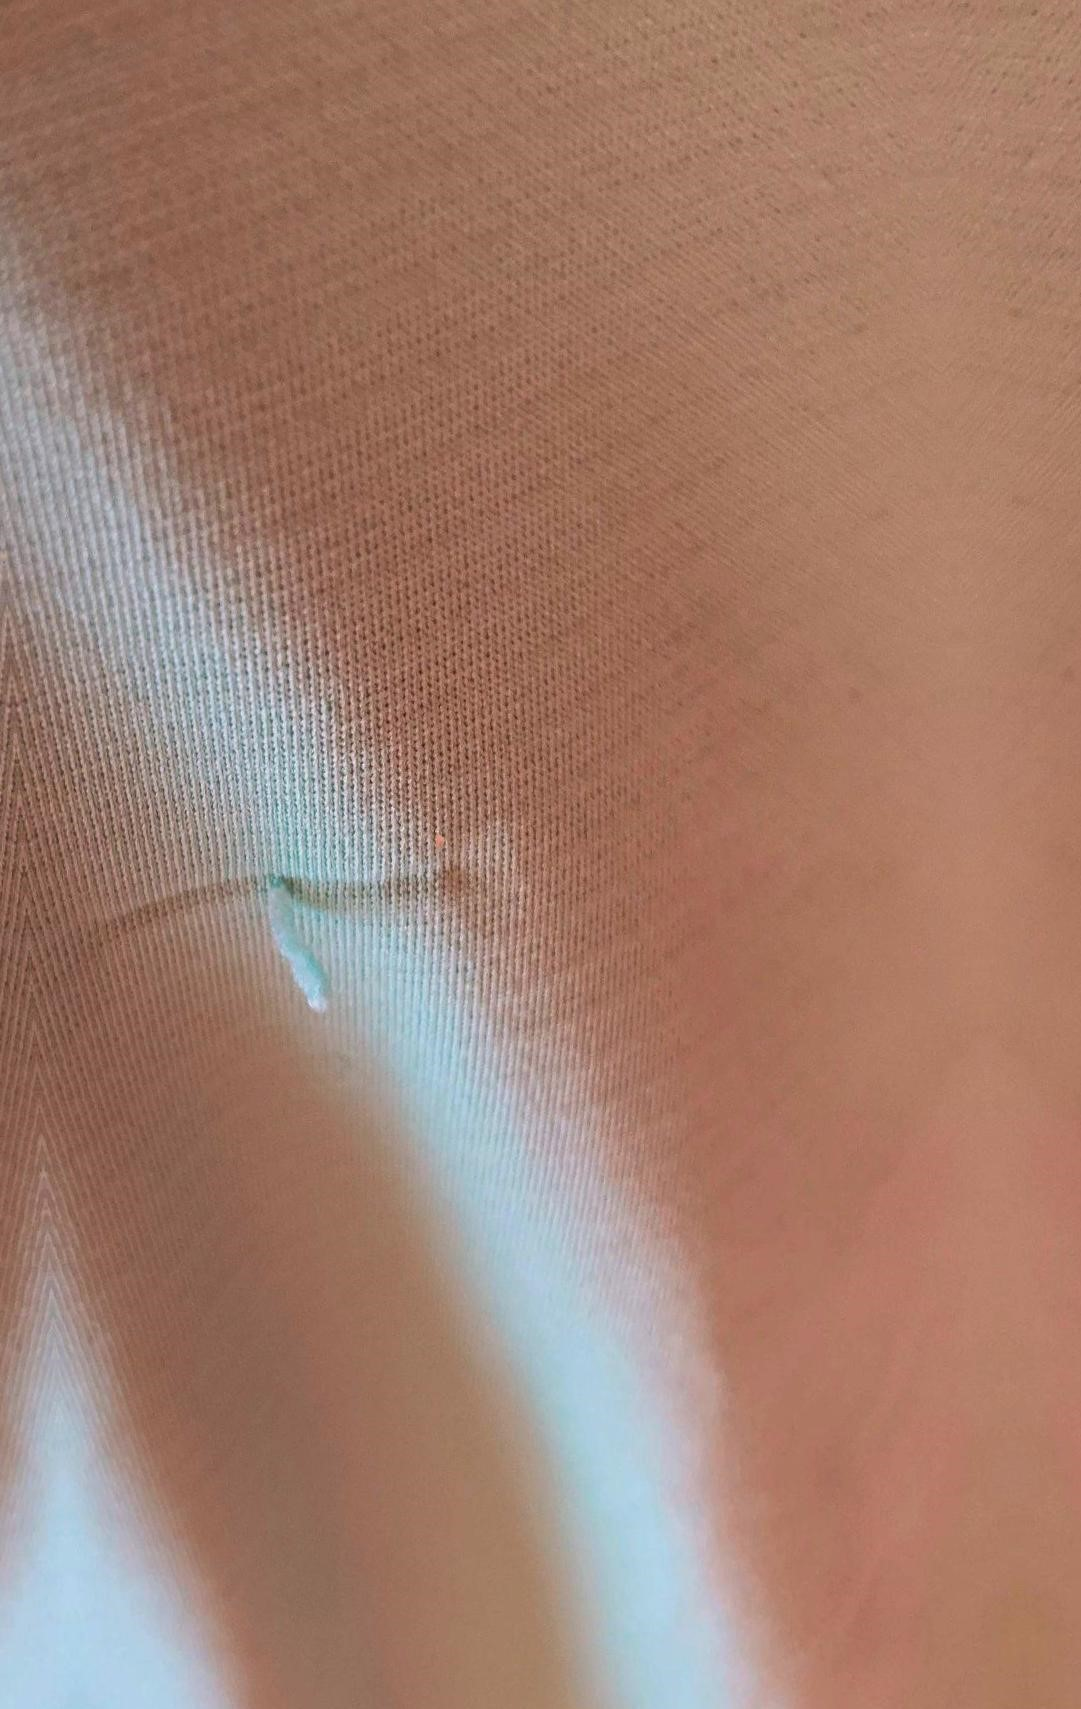snag: (203, 799, 391, 1053)
